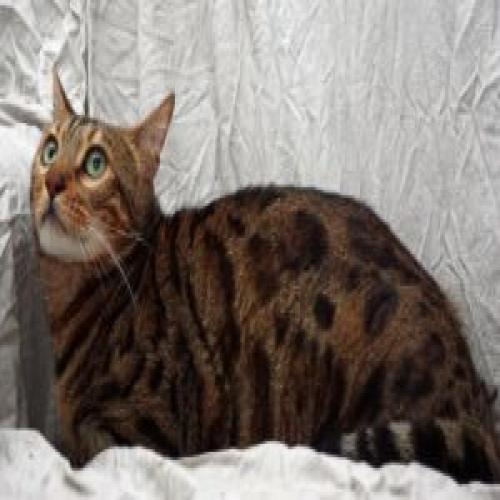bengal: (24, 64, 182, 271)
